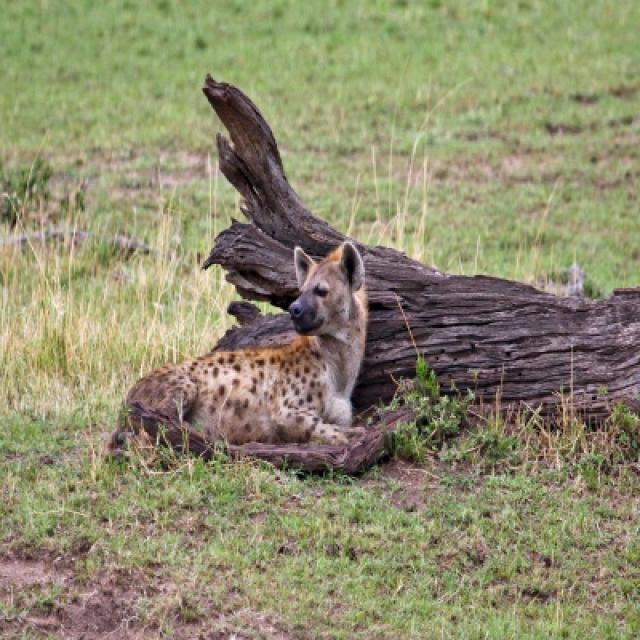hyena: (109, 243, 414, 475)
